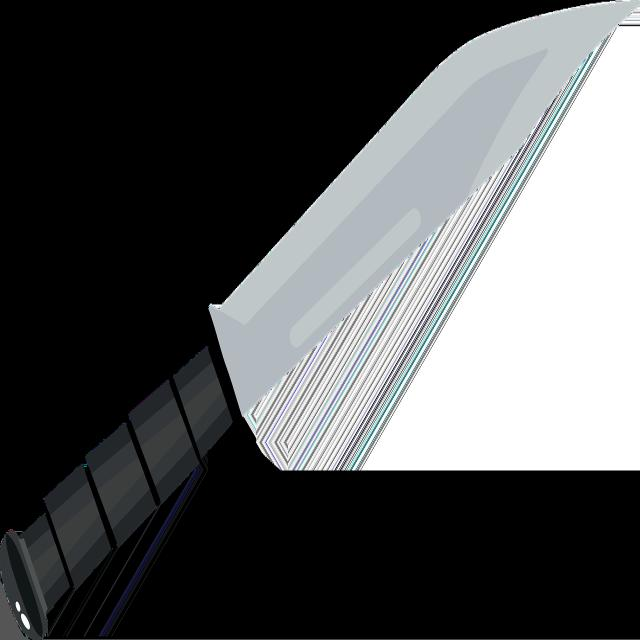Knife: (210, 0, 640, 411)
